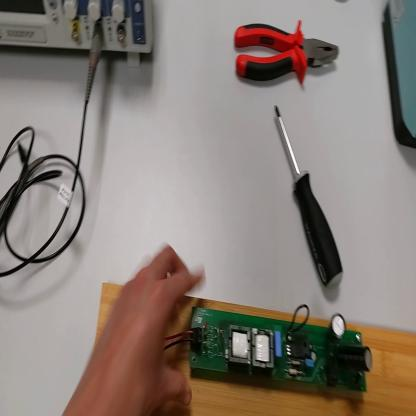hand: (64, 235, 209, 415)
high voltage board: (164, 308, 374, 397)
oscilloscope: (3, 3, 159, 65)
oscilloscope probe tip: (2, 151, 44, 225)
pliers: (232, 14, 341, 99)
screwdriver-: (275, 103, 343, 289)
welder station: (382, 1, 416, 151)
working area: (98, 275, 416, 414)
